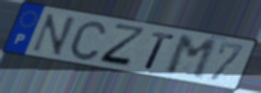7: (208, 40, 246, 83)
C: (68, 19, 109, 63)
M: (164, 34, 219, 81)
N: (29, 12, 78, 58)
T: (143, 30, 177, 72)
Z: (97, 22, 149, 70)
